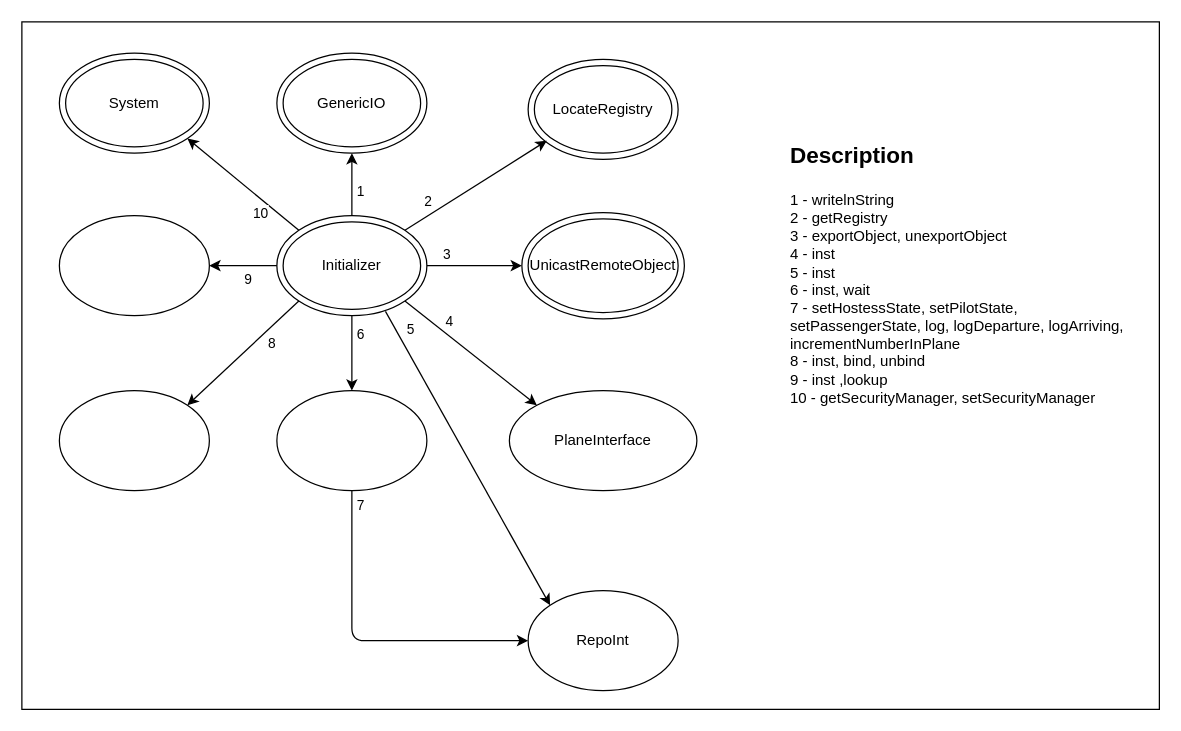
This 1181x731 diagram has some shape labels left out. The shapes that lost their labels are listed below. From the top down, each one's box as (x1, y1, x2, y2) in pixels, then its label:
(58, 214, 209, 316): registry
(58, 389, 209, 491): registerInt
(276, 389, 427, 491): Plane
